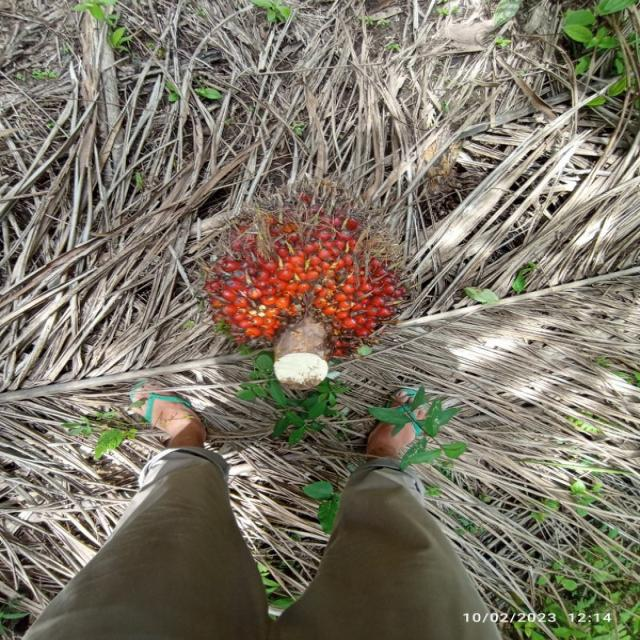fraksi 3: (178, 171, 414, 381)
